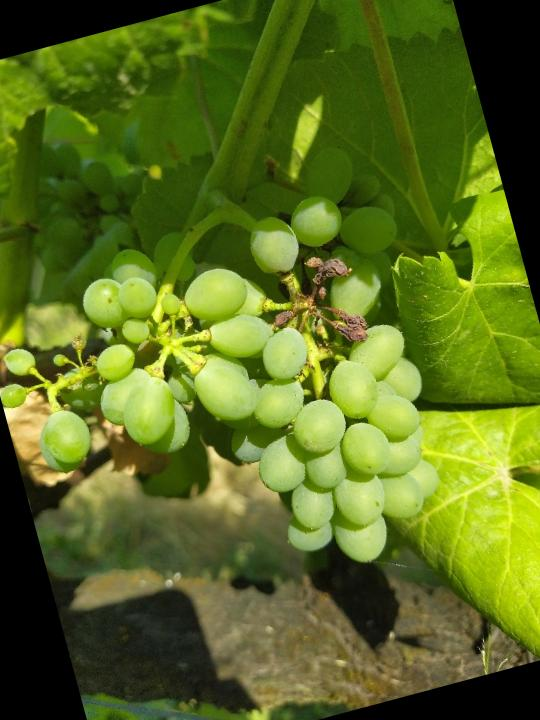grape: (0, 127, 492, 650)
